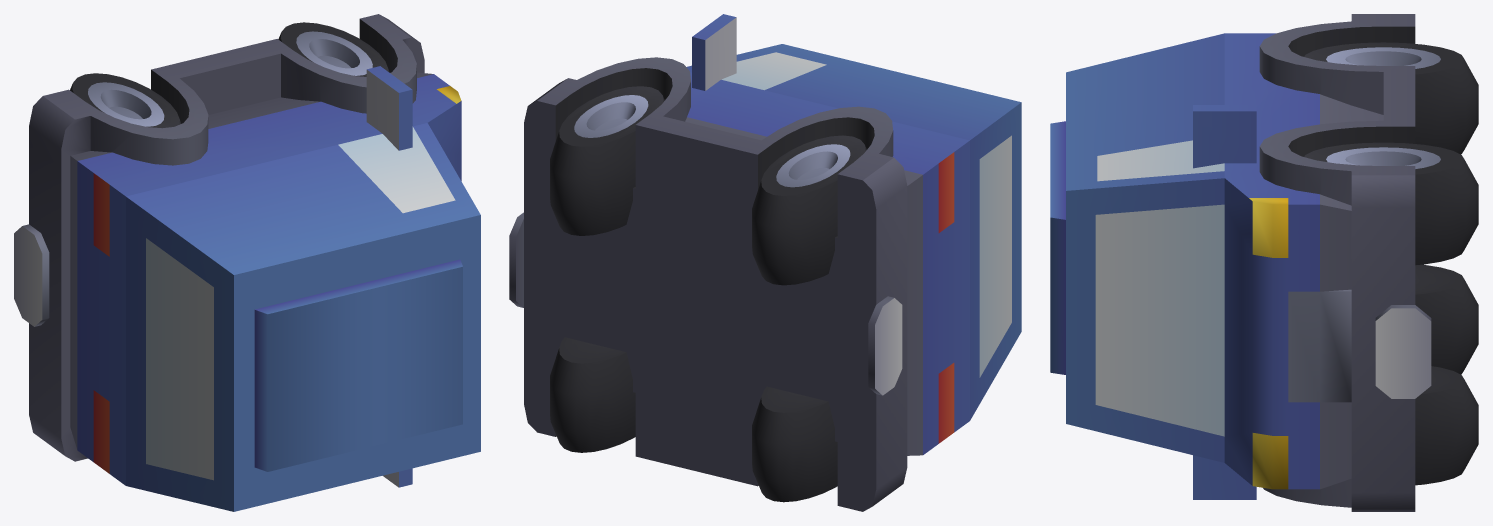
File: van.glb
3 views of the same model, side by side, from view 1: azimuth 30°, elevation 25°; view 2: azimuth 150°, elevation 25°; view 3: azimuth 270°, elevation 25° (orthographic). The views are drawn at different scales.
Visible parts, largest first — view 1: vehicle/van; view 2: vehicle/van; view 3: vehicle/van.
Boxes of the visible parts, <box> form: vehicle/van: <box>14,14,480,511</box>; vehicle/van: <box>509,14,1021,511</box>; vehicle/van: <box>1050,14,1478,511</box>.
Bounding box in the file's own units: 1 × 1 × 1.
